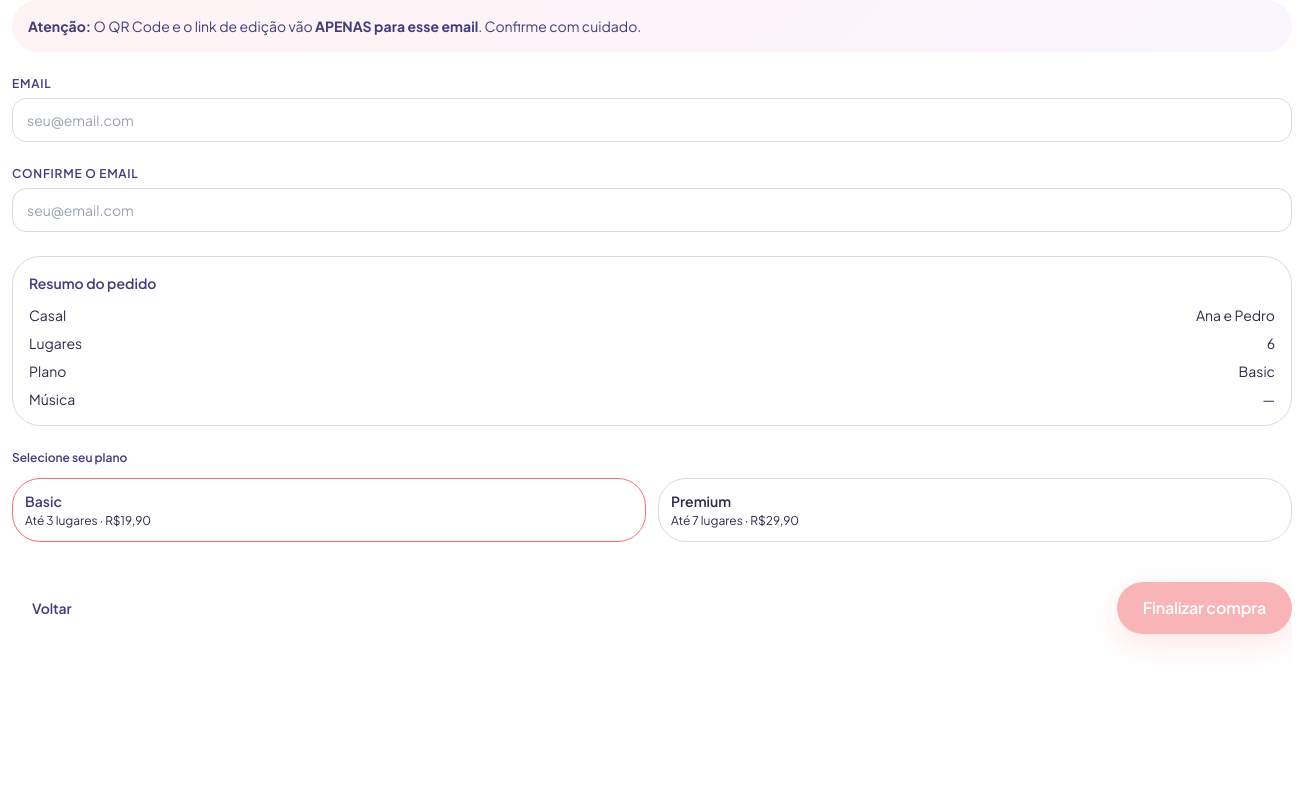
Test: payment-flow integration › should display error message when backend returns 422 and plan is basic with >3 places
Type "pedro@example.com" into the 1st field with placeholder "seu@email.com" at (652, 120), box [12,98,1292,142]
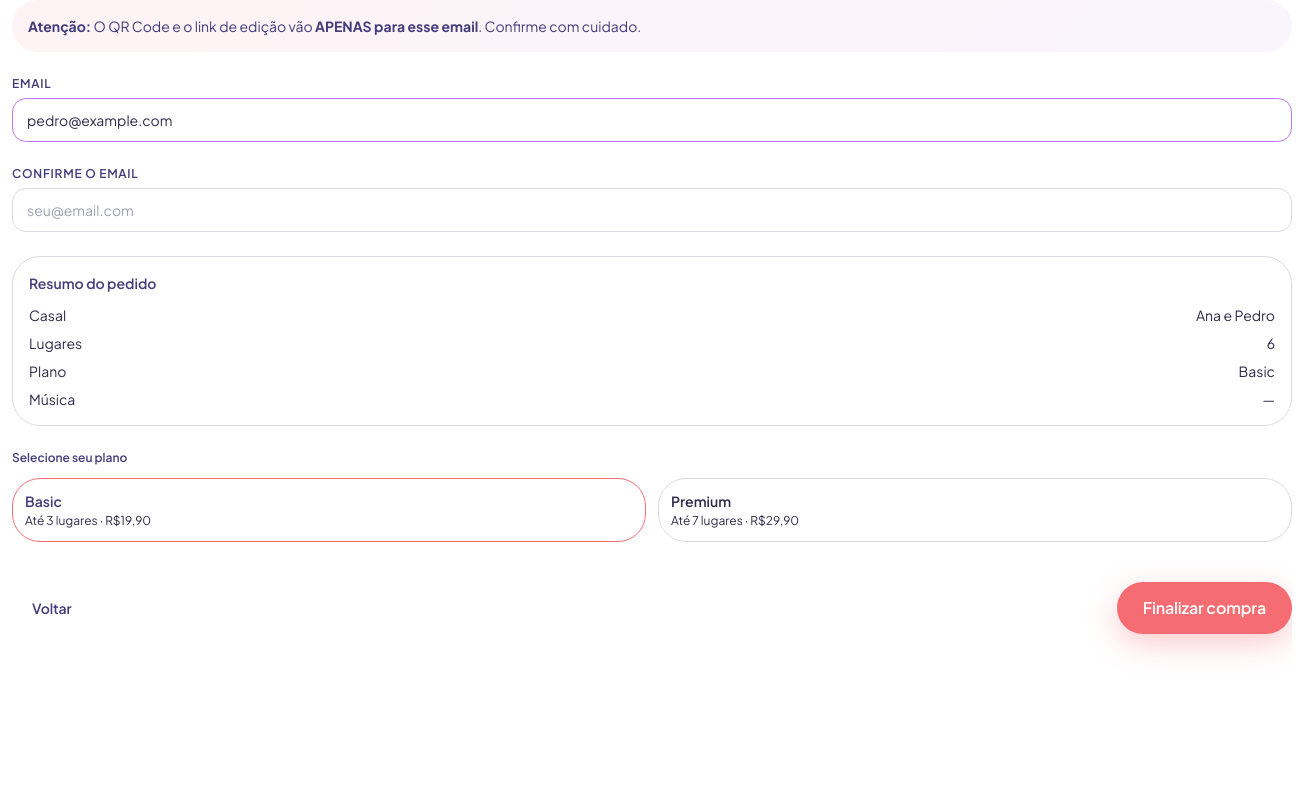
Type "pedro@example.com" into the field with placeholder "seu@email.com" at (652, 210), box [12,188,1292,232]
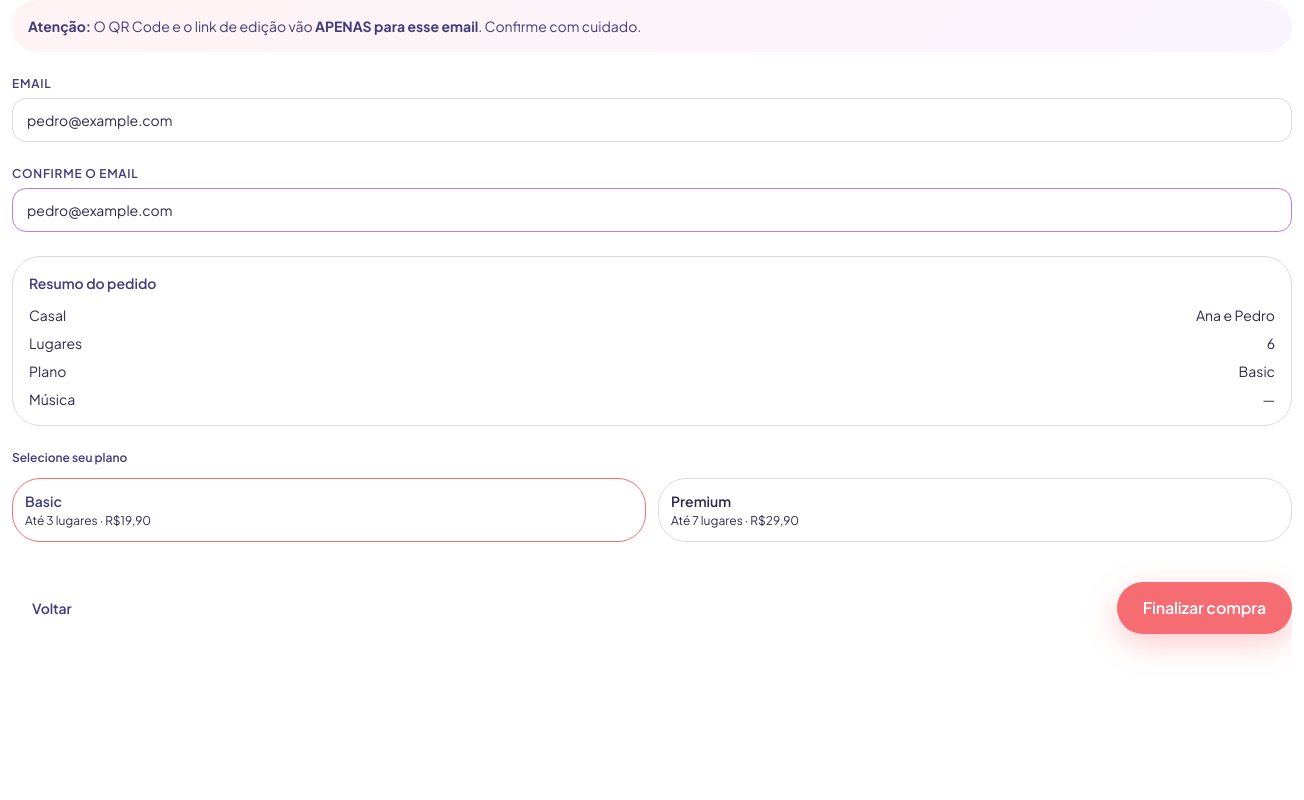
expect the button "Finalizar compra" is enabled: met
Click the button "Finalizar compra" at (1204, 608), box [1117,582,1292,634]
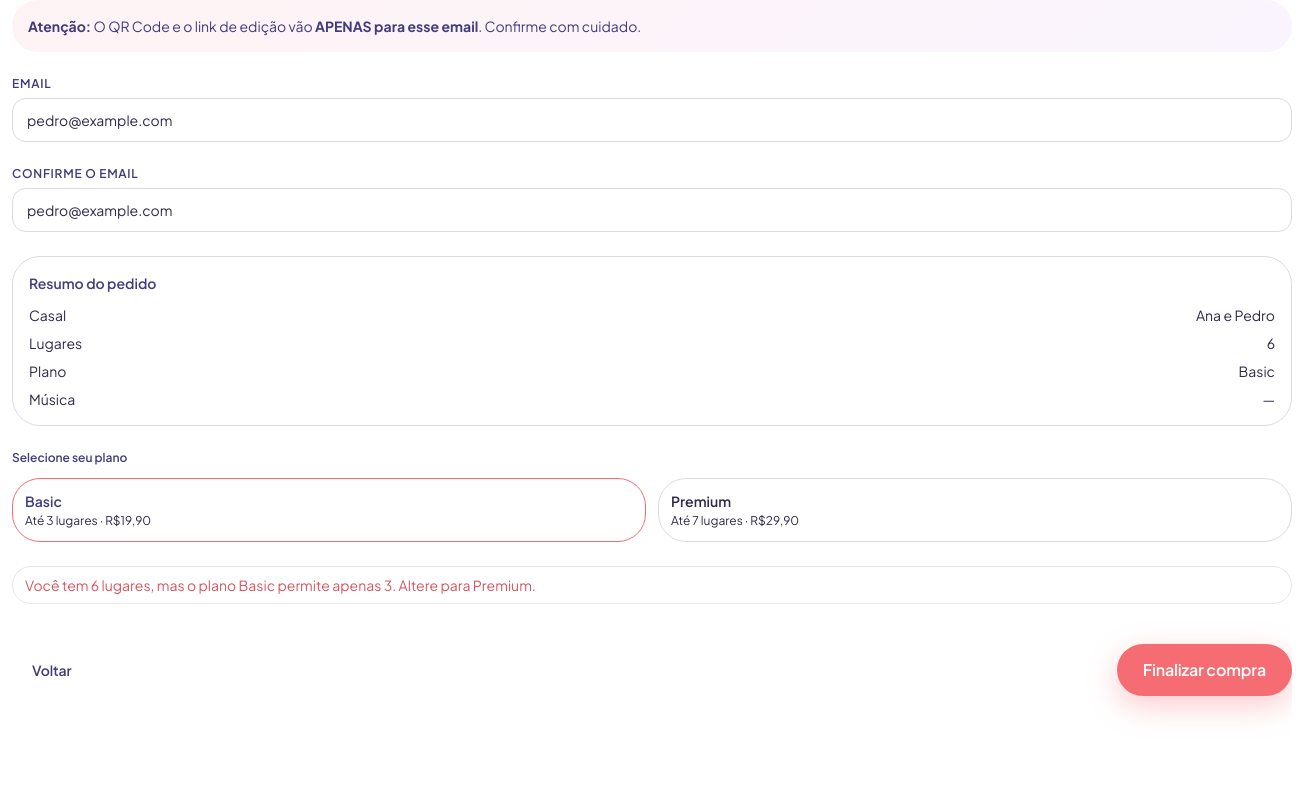
expect the text "Você tem 6 lugares, mas o plano Basic permite apenas 3. Altere para Premium." is shown: met, box [12,566,1292,604]
